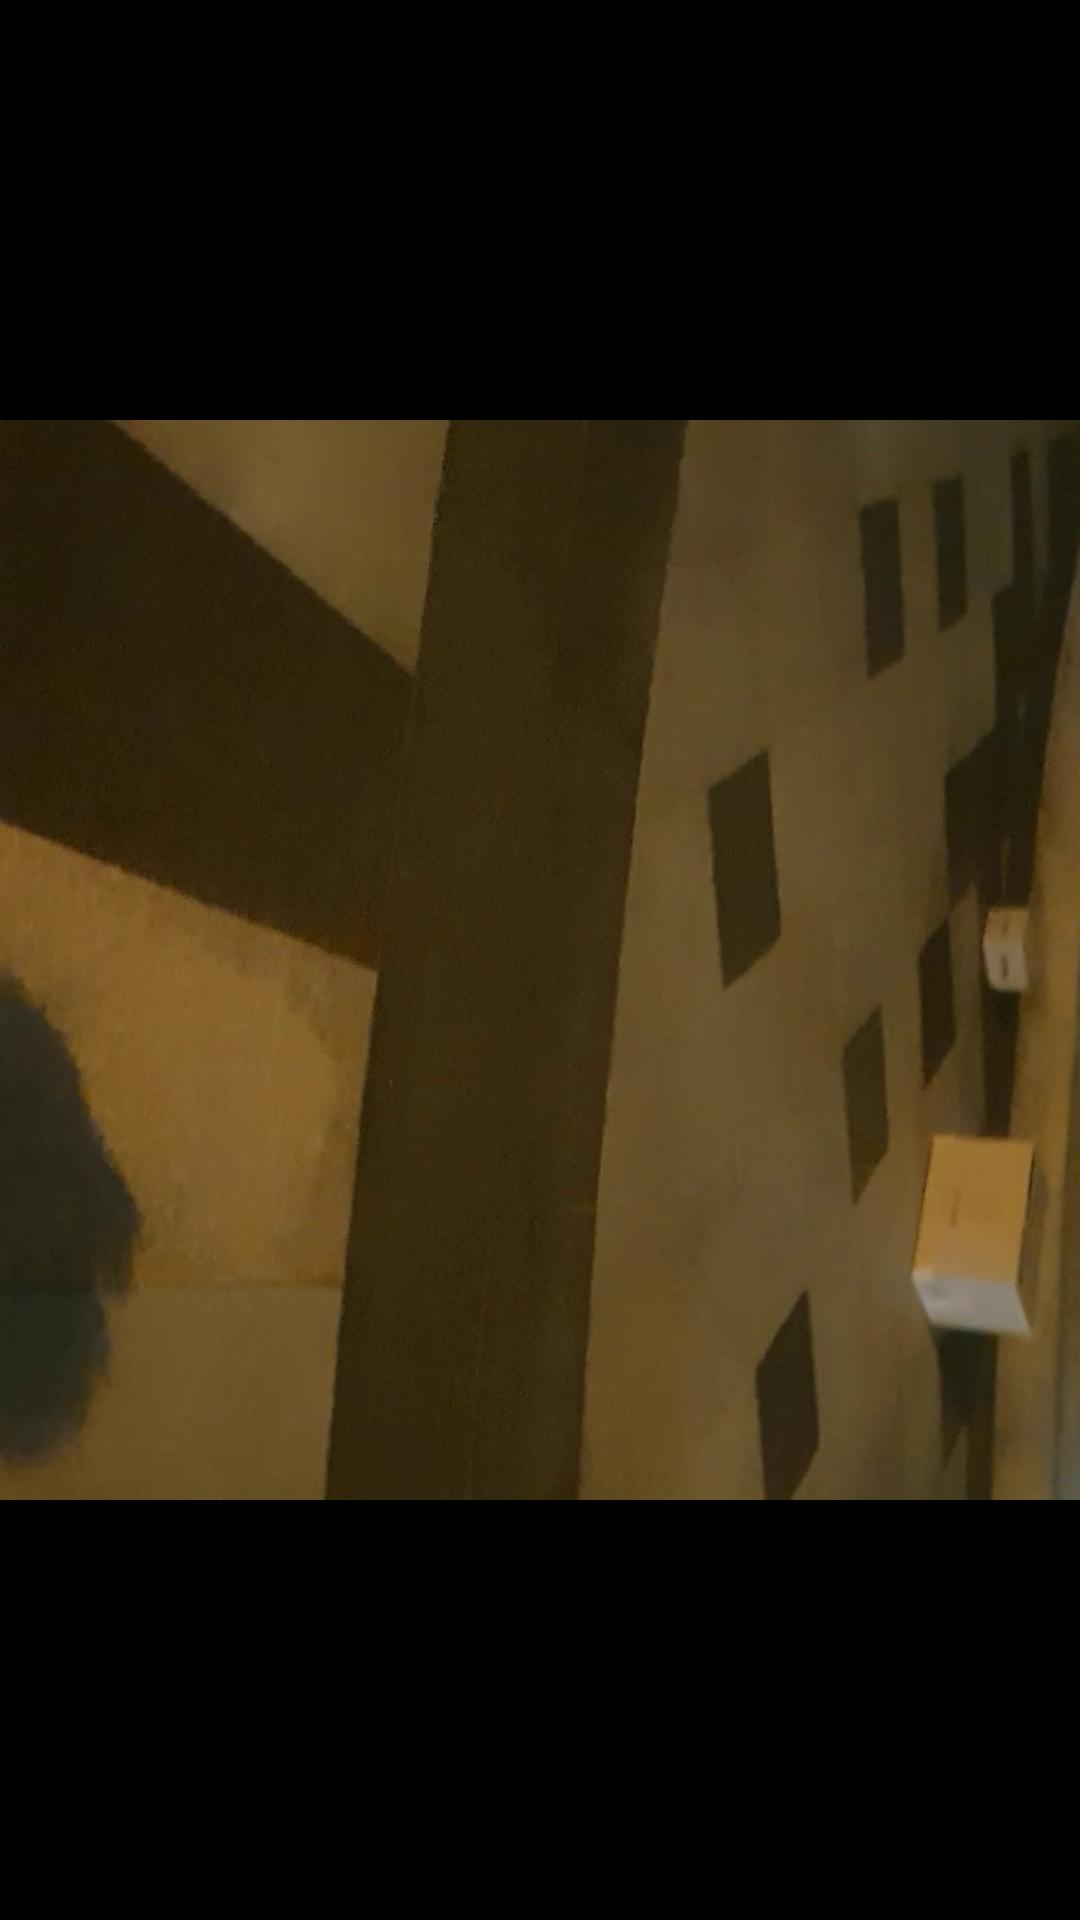Box: (909, 1127, 1055, 1338), (975, 895, 1050, 1004)
